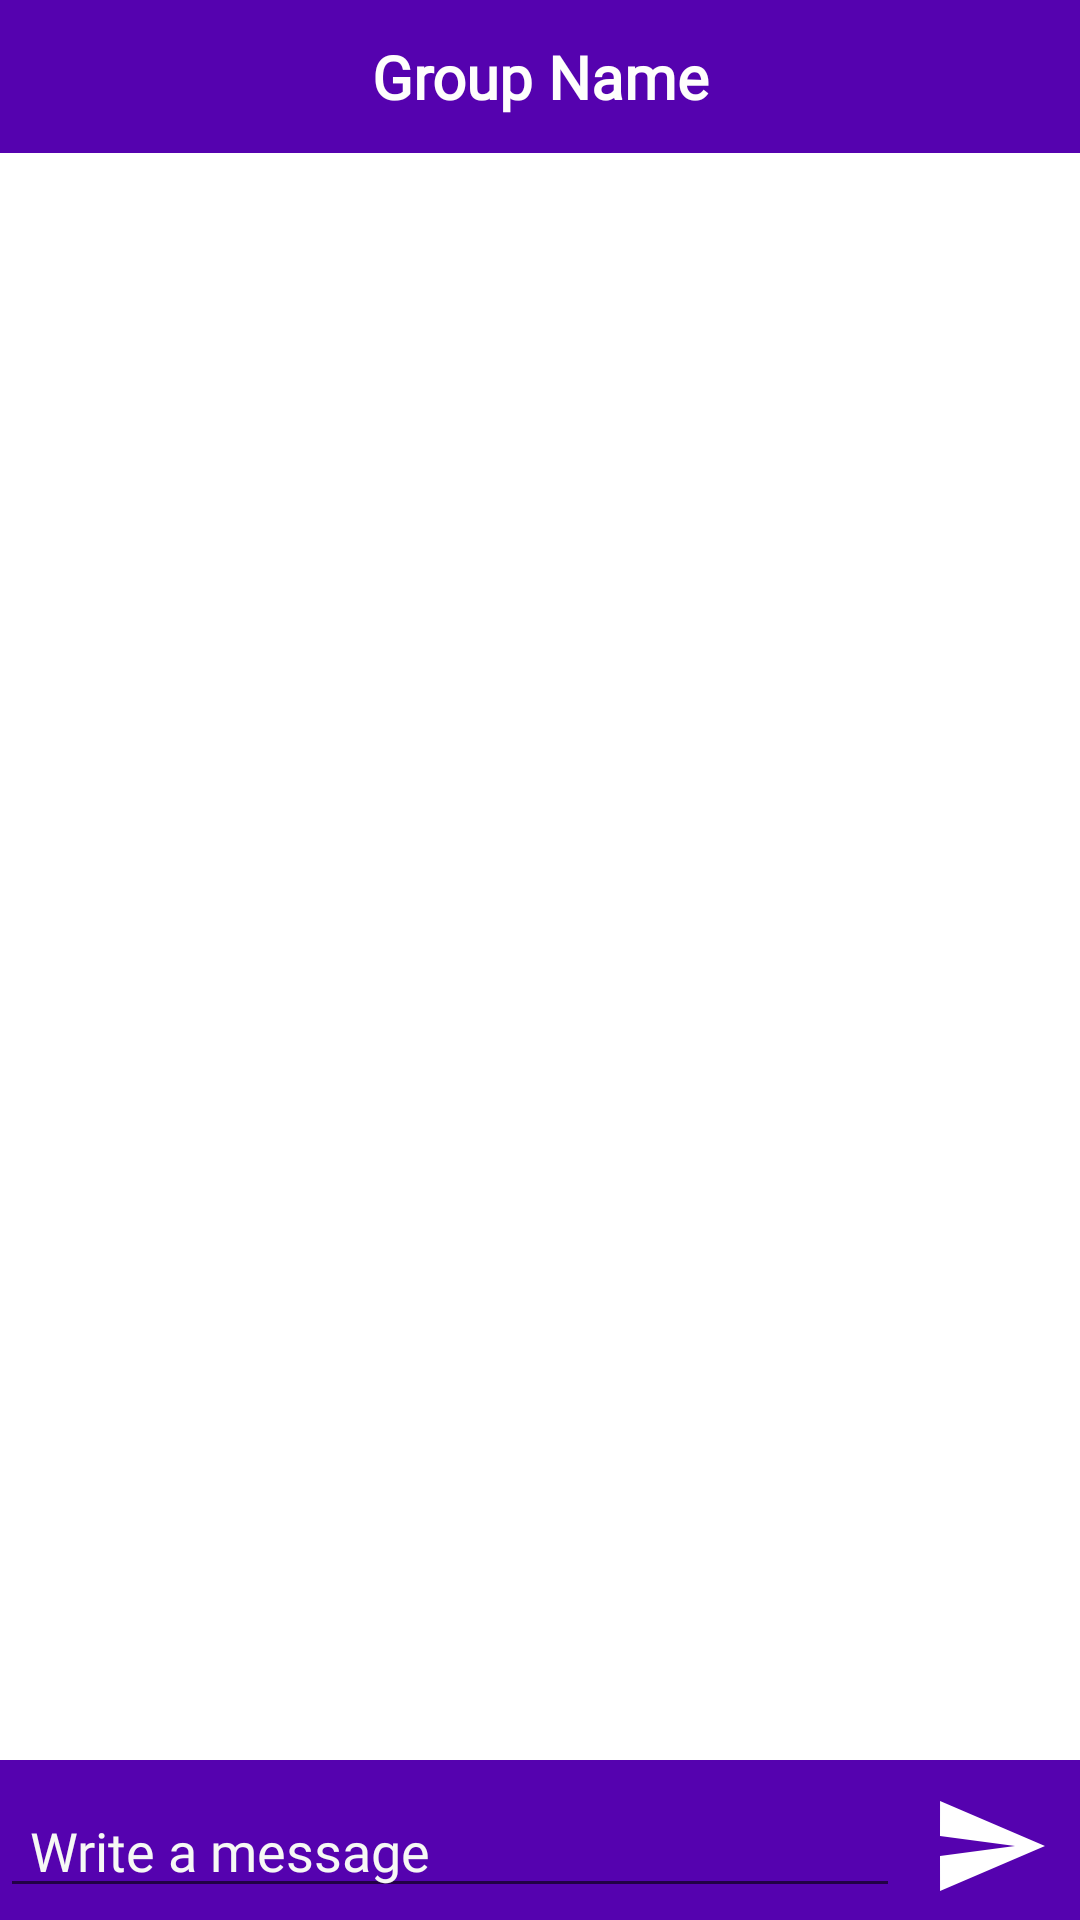

Named icons in this screenshot (1080 × 1920) and their centers, (x,y):
send: (992,1846)
